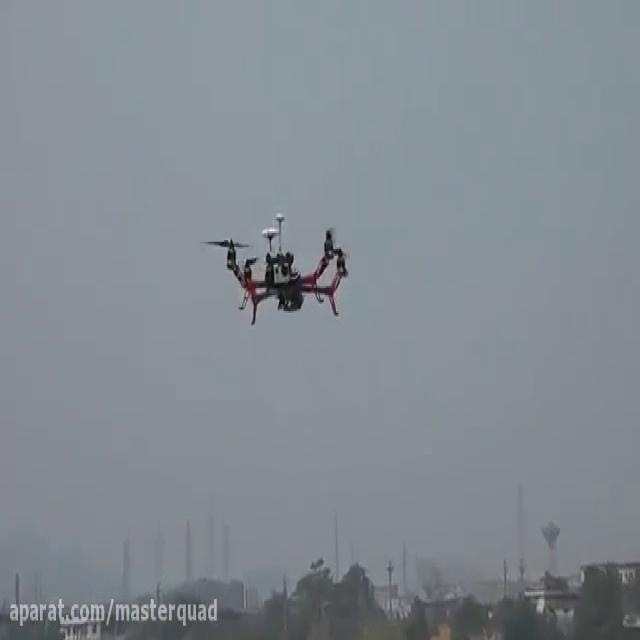drone: (195, 208, 355, 327)
